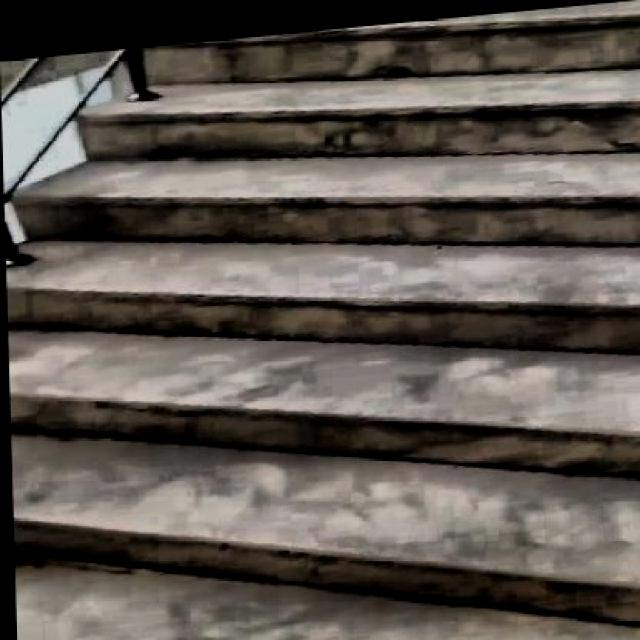stair: (5, 3, 640, 638)
